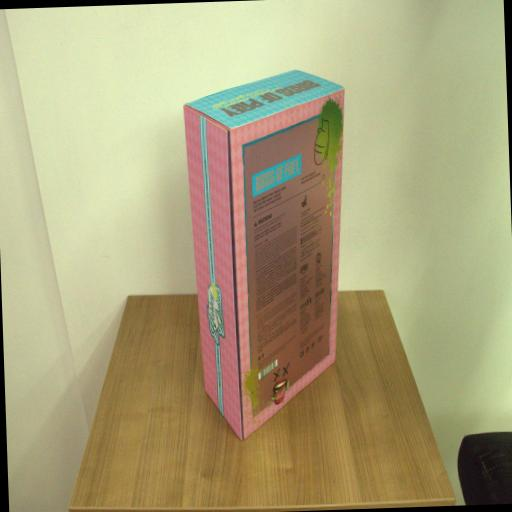Harley: (181, 66, 357, 442)
